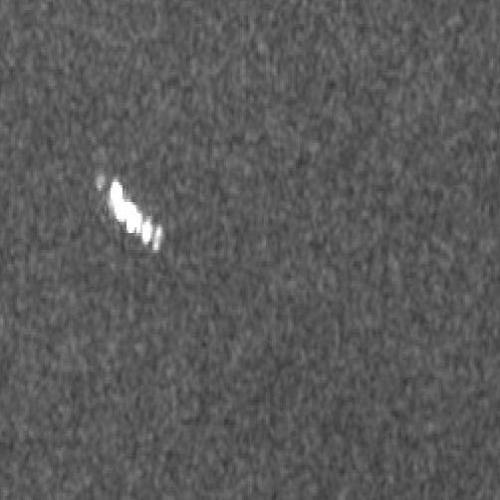ship: (109, 179, 163, 252)
